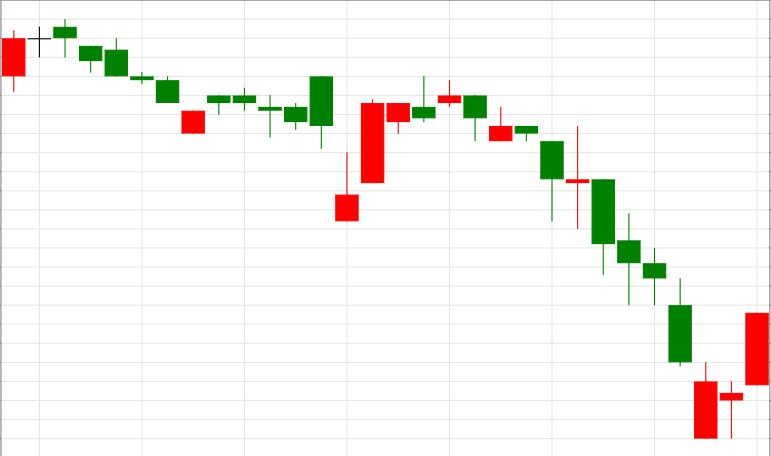hammer_rise: (438, 79, 564, 222)
